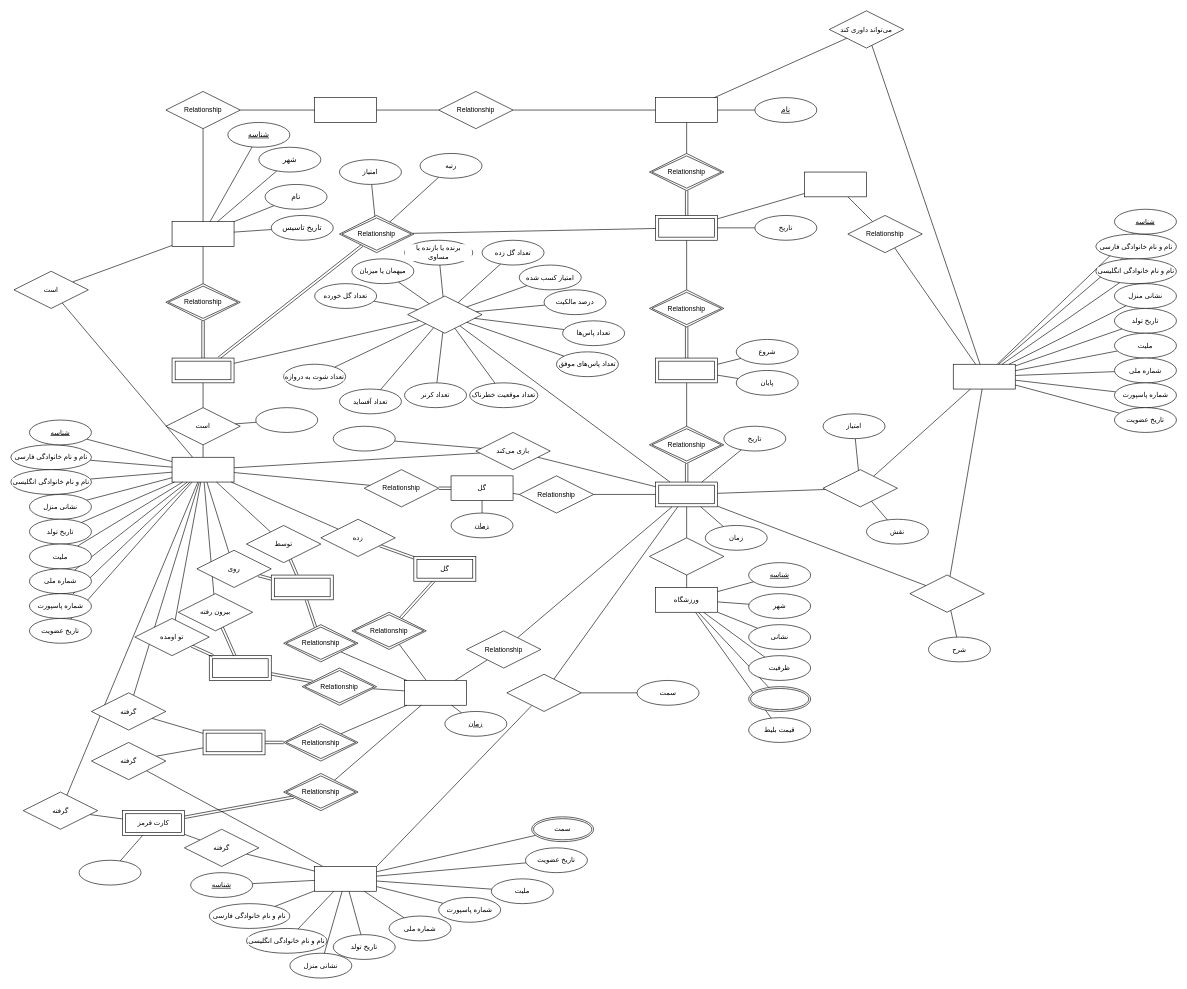
Some shapes in this 1187 by 989 pixel diagram are drawn without their labels. Here are the shapes that lost their labels. From the top down, the centre of each, then its label:
(x=345, y=109): فدراسیون
(x=686, y=109): لیگ
(x=835, y=184): کمیته داوران
(x=202, y=233): تیم
(x=686, y=227): فصل
(x=444, y=314): بازی کرده
(x=202, y=370): ترکیب فصل
(x=686, y=370): هفته
(x=984, y=376): داور
(x=286, y=419): مبلغ قرارداد
(x=364, y=438): ذخیره یا اصلی
(x=202, y=469): بازیکن
(x=859, y=488): داوری می‌کند
(x=686, y=494): بازی
(x=686, y=556): برگزار می‌شود
(x=302, y=587): خطا
(x=946, y=593): نظارت می‌کند
(x=240, y=667): تعویض
(x=435, y=692): رخداد
(x=543, y=692): شرکت می‌کند
(x=779, y=698): امکانات
(x=233, y=742): کارت زرد
(x=109, y=872): مستقیم یا زرد دوم
(x=345, y=878): کادر
